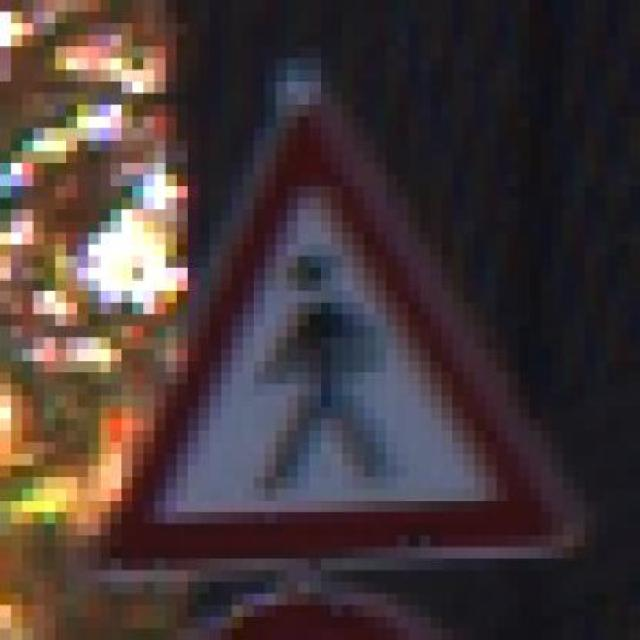Pedestrian Crossing: (78, 93, 596, 593)
